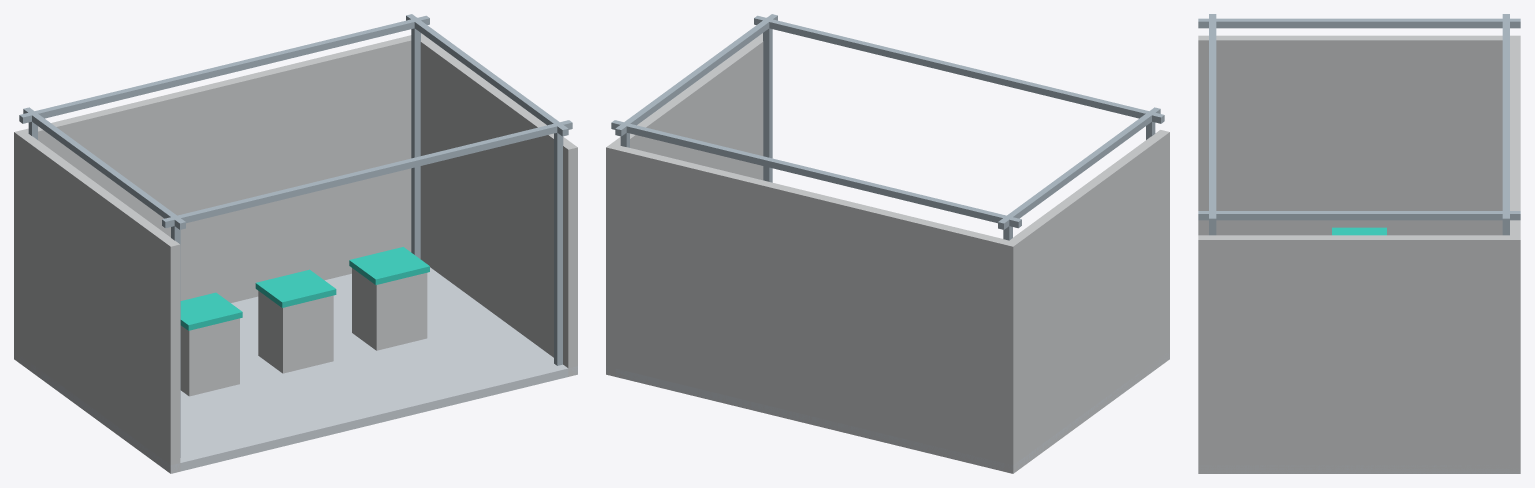
The picture shows the model from 3 angles, left to right: view 1: azimuth 30°, elevation 25°; view 2: azimuth 150°, elevation 25°; view 3: azimuth 270°, elevation 25°; orthographic projection. The views are drawn at different scales.
Visible parts, largest first — view 1: Exhibition Booth Concept; view 2: Exhibition Booth Concept; view 3: Exhibition Booth Concept.
Boxes of the visible parts, x1,y1,x2,y2 form: Exhibition Booth Concept: [14, 14, 577, 473]; Exhibition Booth Concept: [606, 14, 1169, 473]; Exhibition Booth Concept: [1198, 14, 1520, 473].
Size of the model in its own units: 6 by 3.49 by 4.
